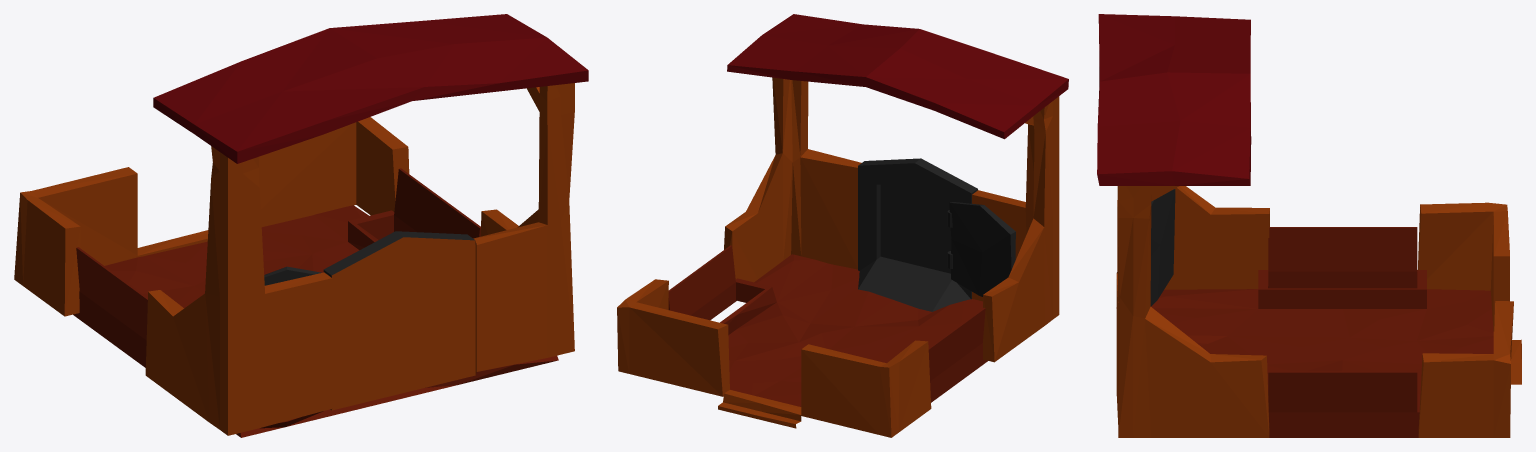
Rendered from Train_Cabin.fbx.
3 views of the same model, side by side, from view 1: azimuth 30°, elevation 25°; view 2: azimuth 150°, elevation 25°; view 3: azimuth 270°, elevation 25° (orthographic). The views are drawn at different scales.
Visible parts, largest first — view 1: Roof; view 2: Roof; view 3: Roof.
Boxes of the visible parts, x1,y1,x2,y2 form: Roof: (14,14,588,437); Roof: (617,14,1068,437); Roof: (1097,14,1521,437).
Size of the model in its own units: 270 by 239 by 307.
